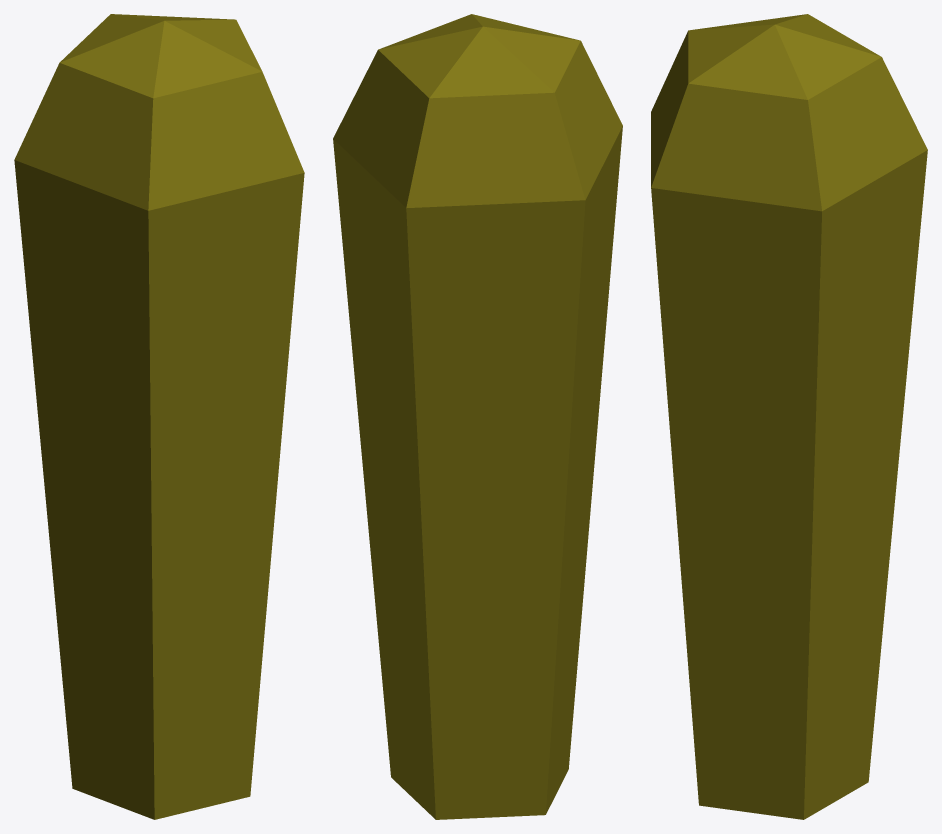
File: Cactus1.fbx
The picture shows the model from 3 angles, left to right: view 1: azimuth 30°, elevation 25°; view 2: azimuth 150°, elevation 25°; view 3: azimuth 270°, elevation 25°; orthographic projection.
Parts seen in each view (by area): view 1: Cactus1; view 2: Cactus1; view 3: Cactus1.
Part boxes in pixels (<box>): Cactus1: <box>14,14,304,819</box>; Cactus1: <box>333,14,622,819</box>; Cactus1: <box>651,14,927,819</box>.
Size of the model in its own units: 20.41 by 58.62 by 19.41.
